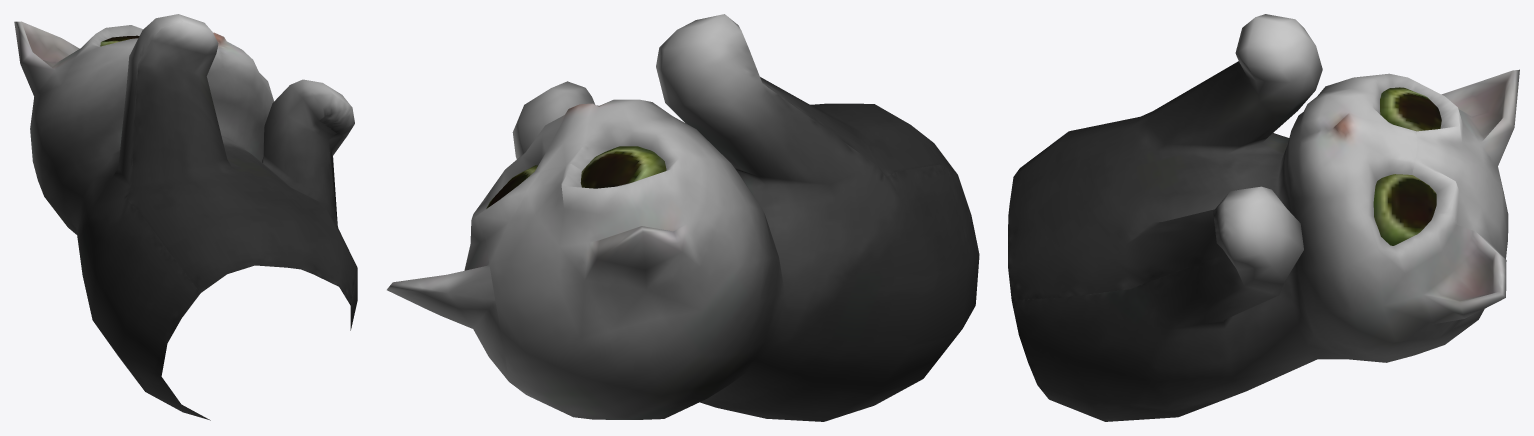
3 renders of one model, left to right at view 1: azimuth 30°, elevation 25°; view 2: azimuth 150°, elevation 25°; view 3: azimuth 270°, elevation 25°, orthographic. The views are drawn at different scales.
Visible parts, largest first — view 1: body0_model0_lod0_mesh0; view 2: body0_model0_lod0_mesh0; view 3: body0_model0_lod0_mesh0.
Part boxes in pixels (x1,y1,x2,y2): body0_model0_lod0_mesh0: (14,14,357,420); body0_model0_lod0_mesh0: (387,14,979,421); body0_model0_lod0_mesh0: (1008,14,1519,421).
Size of the model in its own units: 5.01 by 5.76 by 6.82.
1 material, 1 textured.
